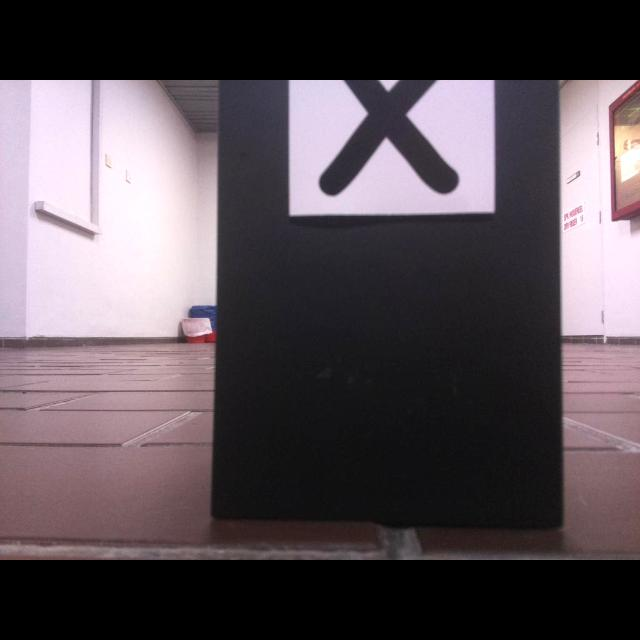X: (318, 80, 461, 198)
